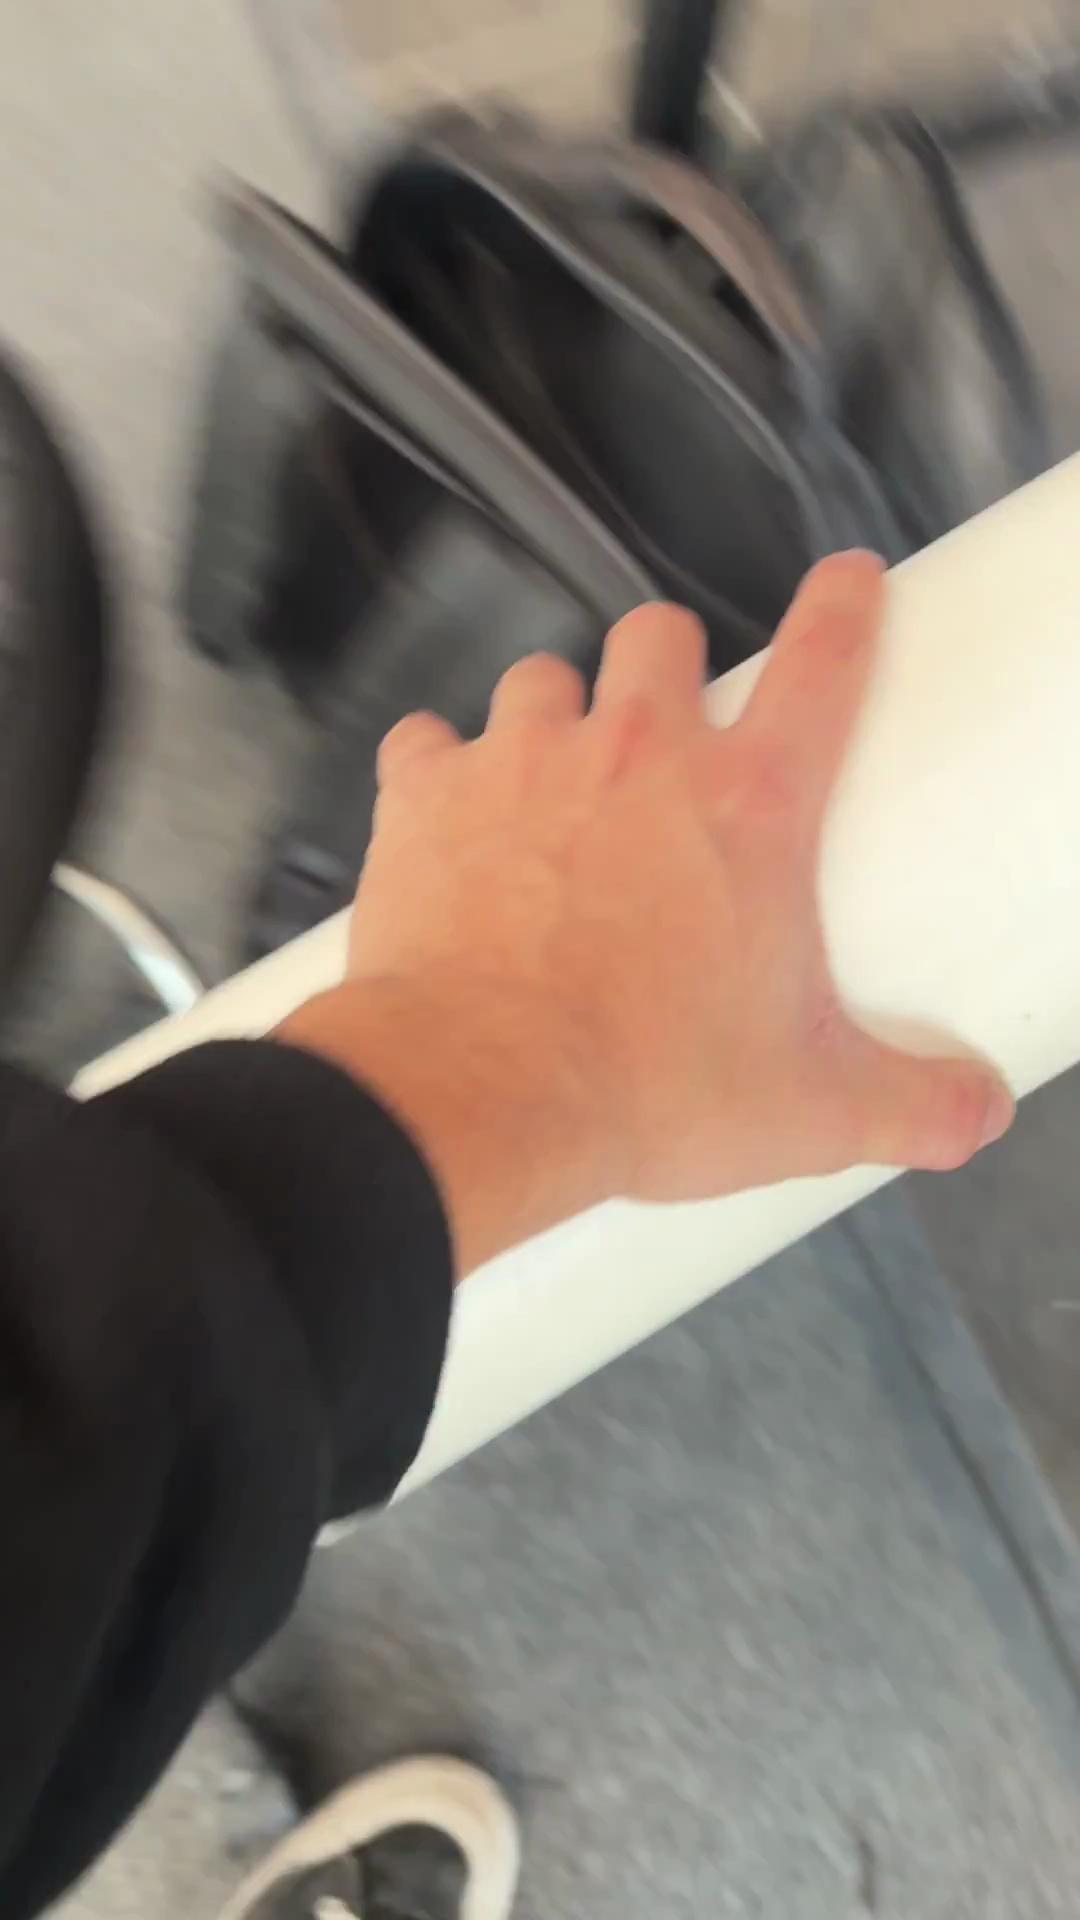CORAL: (65, 443, 1076, 1538)
